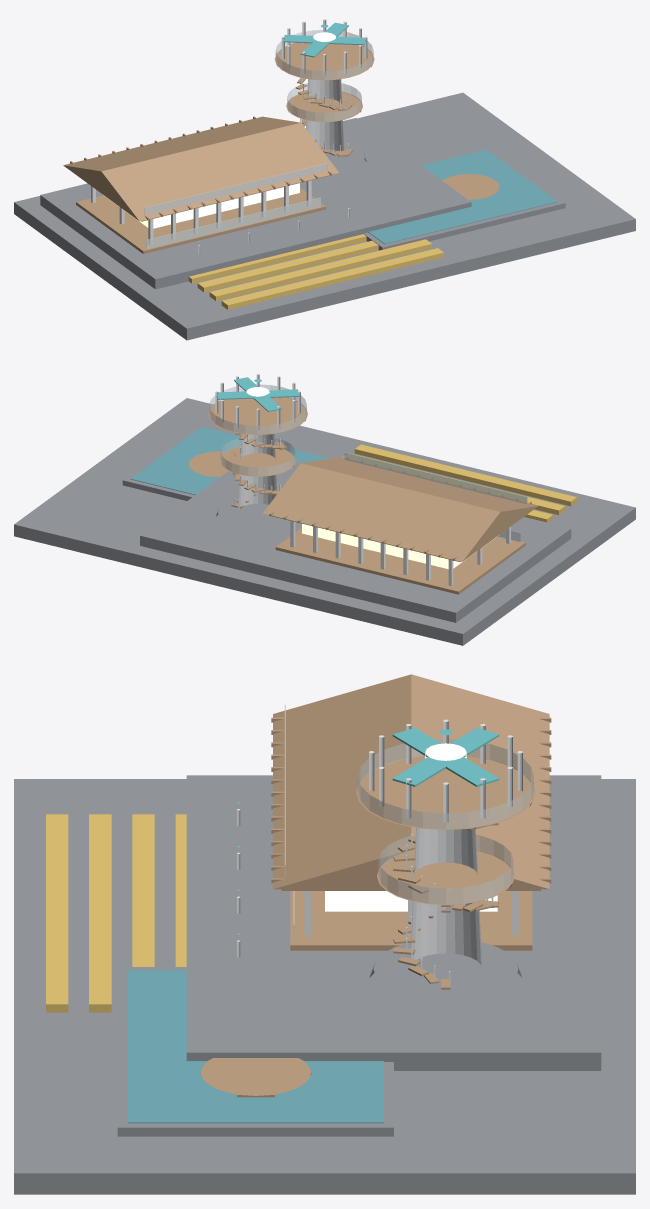
The model's file is lm_61_khu_du_lich_chuon_chuon_me_linh_observation_tower_and_lake_bistro.glb.
The picture shows the model from 3 angles, top to bottom: view 1: azimuth 30°, elevation 25°; view 2: azimuth 150°, elevation 25°; view 3: azimuth 270°, elevation 25°; orthographic projection. The views are drawn at different scales.
Visible parts, largest first — view 1: lm_61_khu_du_lich_chuon_chuon_me_linh_observation_tower_and_; view 2: lm_61_khu_du_lich_chuon_chuon_me_linh_observation_tower_and_; view 3: lm_61_khu_du_lich_chuon_chuon_me_linh_observation_tower_and_.
Boxes of the visible parts, <box> form: lm_61_khu_du_lich_chuon_chuon_me_linh_observation_tower_and_: <box>14,19,635,340</box>; lm_61_khu_du_lich_chuon_chuon_me_linh_observation_tower_and_: <box>14,373,635,645</box>; lm_61_khu_du_lich_chuon_chuon_me_linh_observation_tower_and_: <box>14,674,635,1194</box>.
Size of the model in its own units: 54 by 18.8 by 36.
